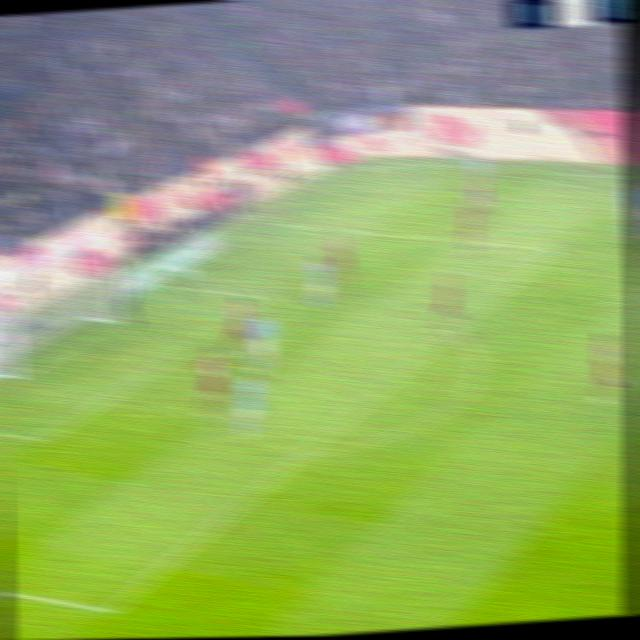bigarea_bottom_inner: (93, 589, 133, 630)
bigarea_top_inner: (534, 230, 574, 268)
bigarea_top_outter: (269, 212, 298, 238)
bottom_arc_area_intersection: (285, 436, 320, 472)
corner: (375, 155, 404, 172)
smallarea_bottom_inner: (25, 420, 62, 455)
smallarea_top_inner: (253, 281, 281, 310)
smallarea_top_outter: (156, 267, 197, 304), (163, 273, 192, 298)
top_arc_area_intersection: (436, 317, 471, 347)
